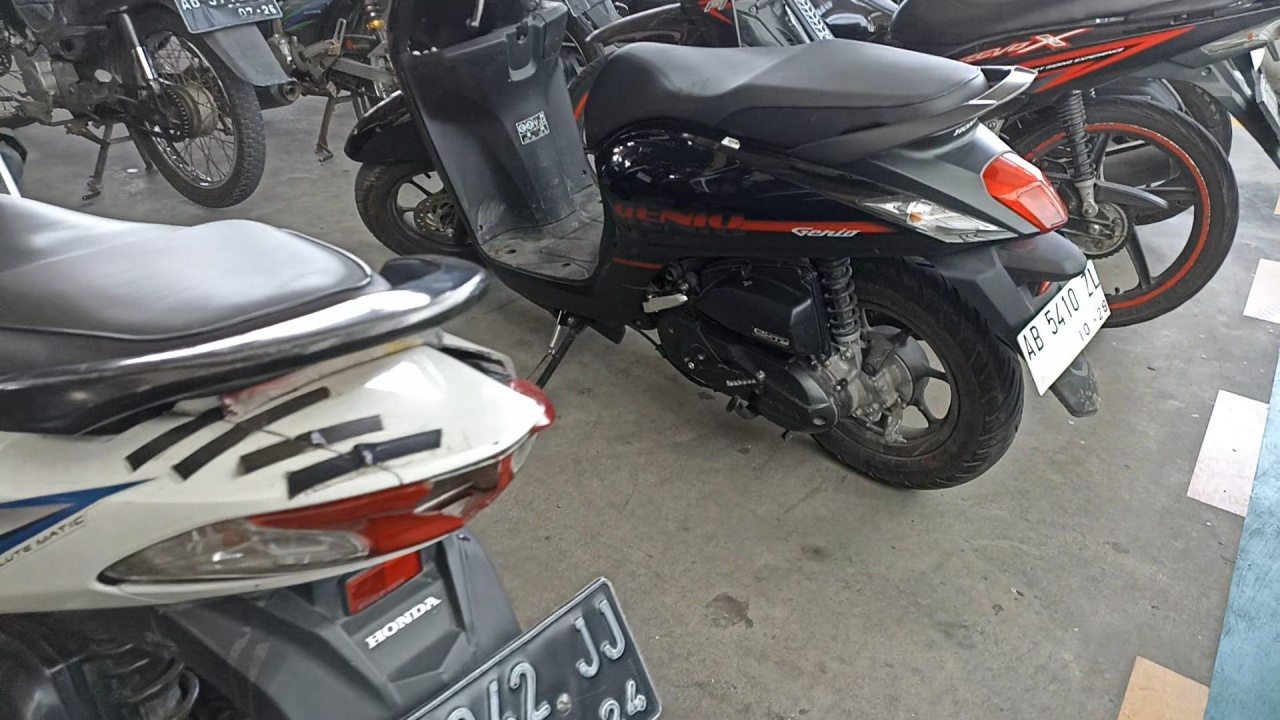plate: (1016, 259, 1111, 398)
